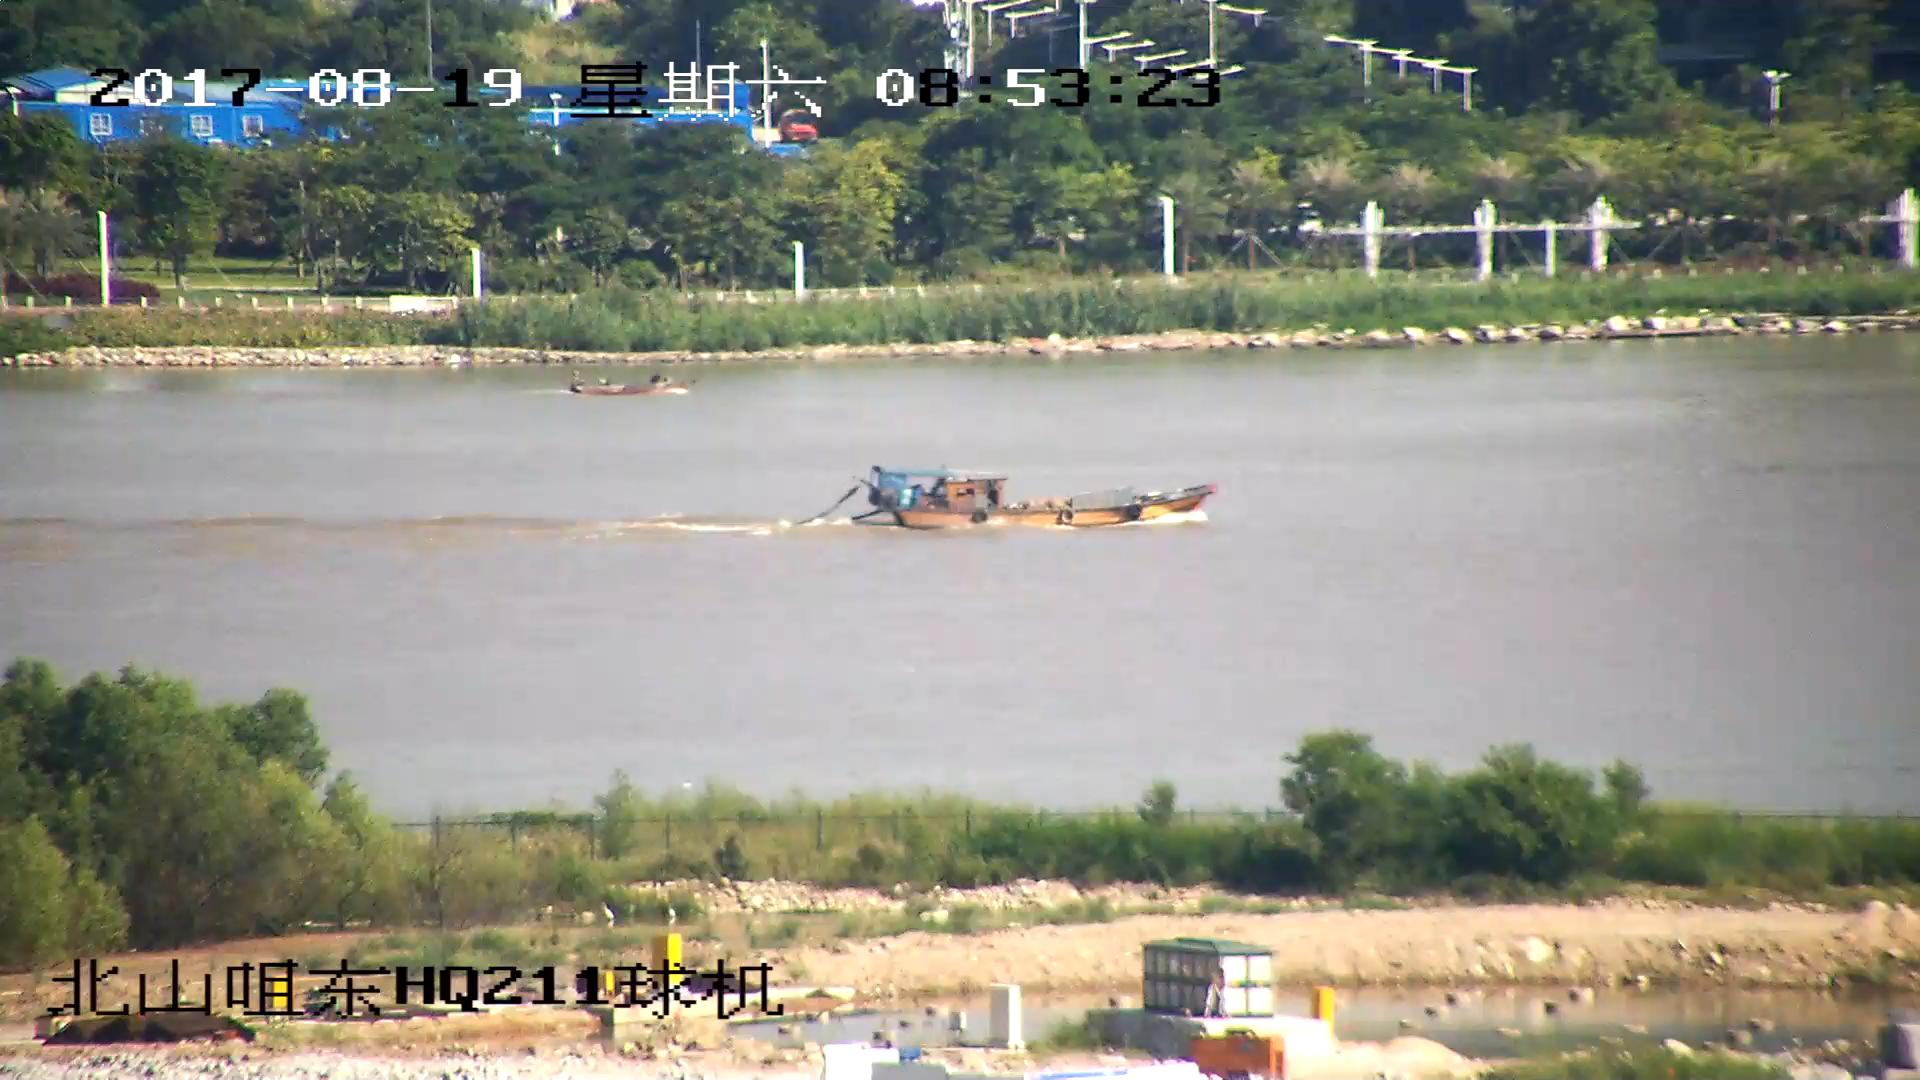fishing boat: (863, 462, 1219, 532), (567, 370, 696, 403)
